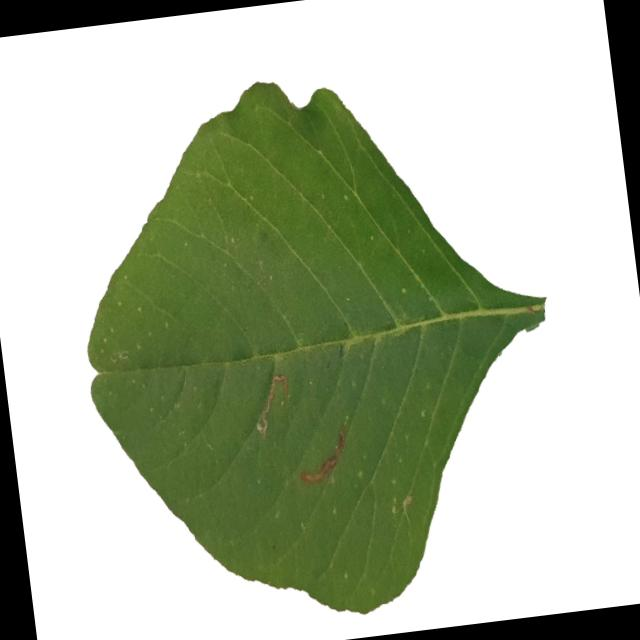Medicinal-Arive Dantu: (48, 41, 579, 640)
